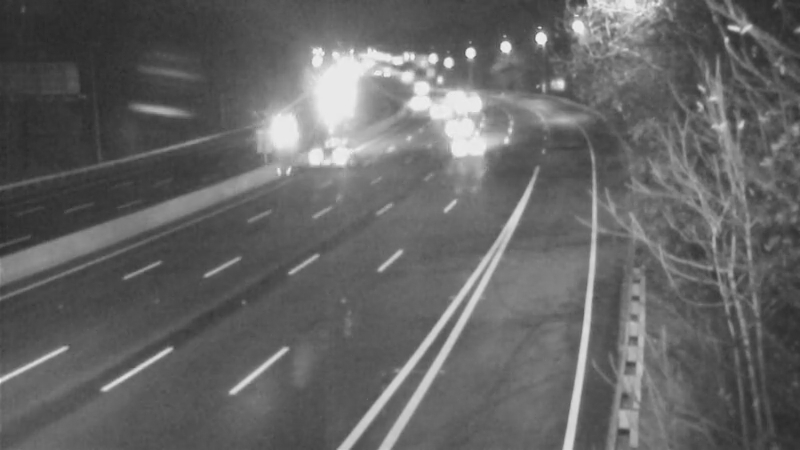vehicle: (291, 120, 371, 200), (394, 76, 444, 126), (439, 81, 489, 131), (411, 84, 461, 134), (435, 98, 485, 148), (443, 116, 493, 166), (243, 112, 293, 162)
